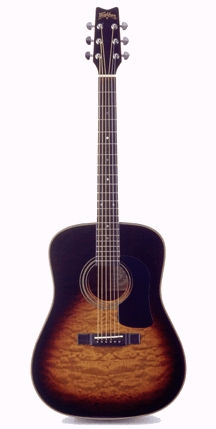guitar: (31, 4, 188, 418)
